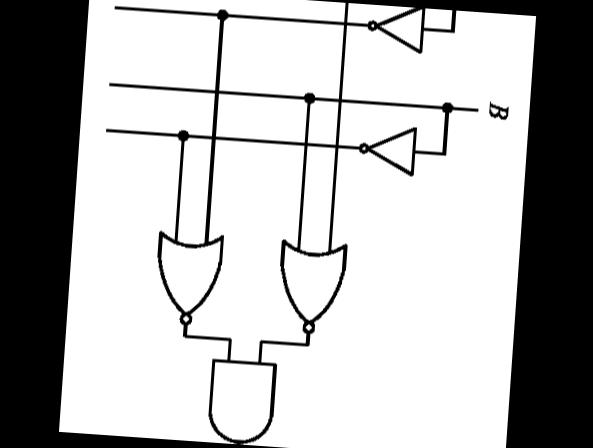and: (189, 346, 289, 448)
nor: (138, 208, 238, 333), (267, 218, 359, 344)
not: (347, 108, 425, 194), (359, 4, 432, 70)
